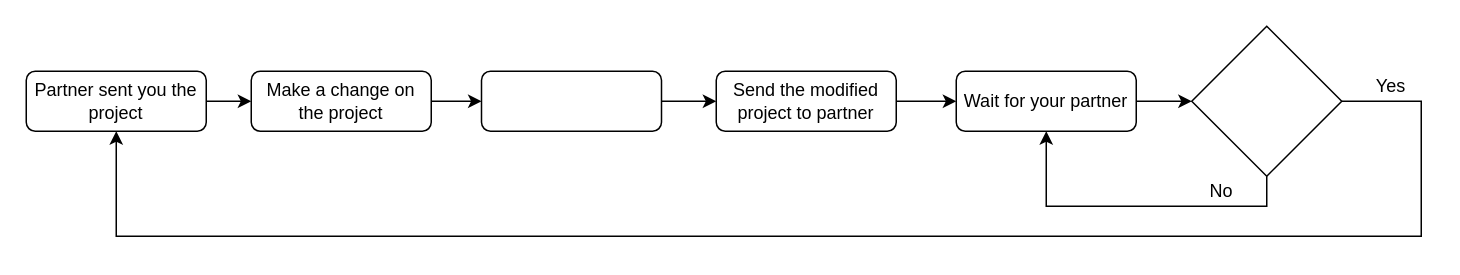
The diagram is 1460 pixels wide and 275 high, and some of its shapes have lost their labels. The centre of each missing label's shape, as x and y in pixels:
"Finished editing" belongs at [571,100].
"Has your partner finished?" belongs at [1266,100].
